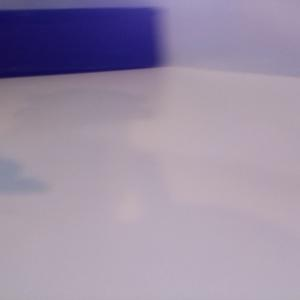zone: (1, 7, 158, 78)
